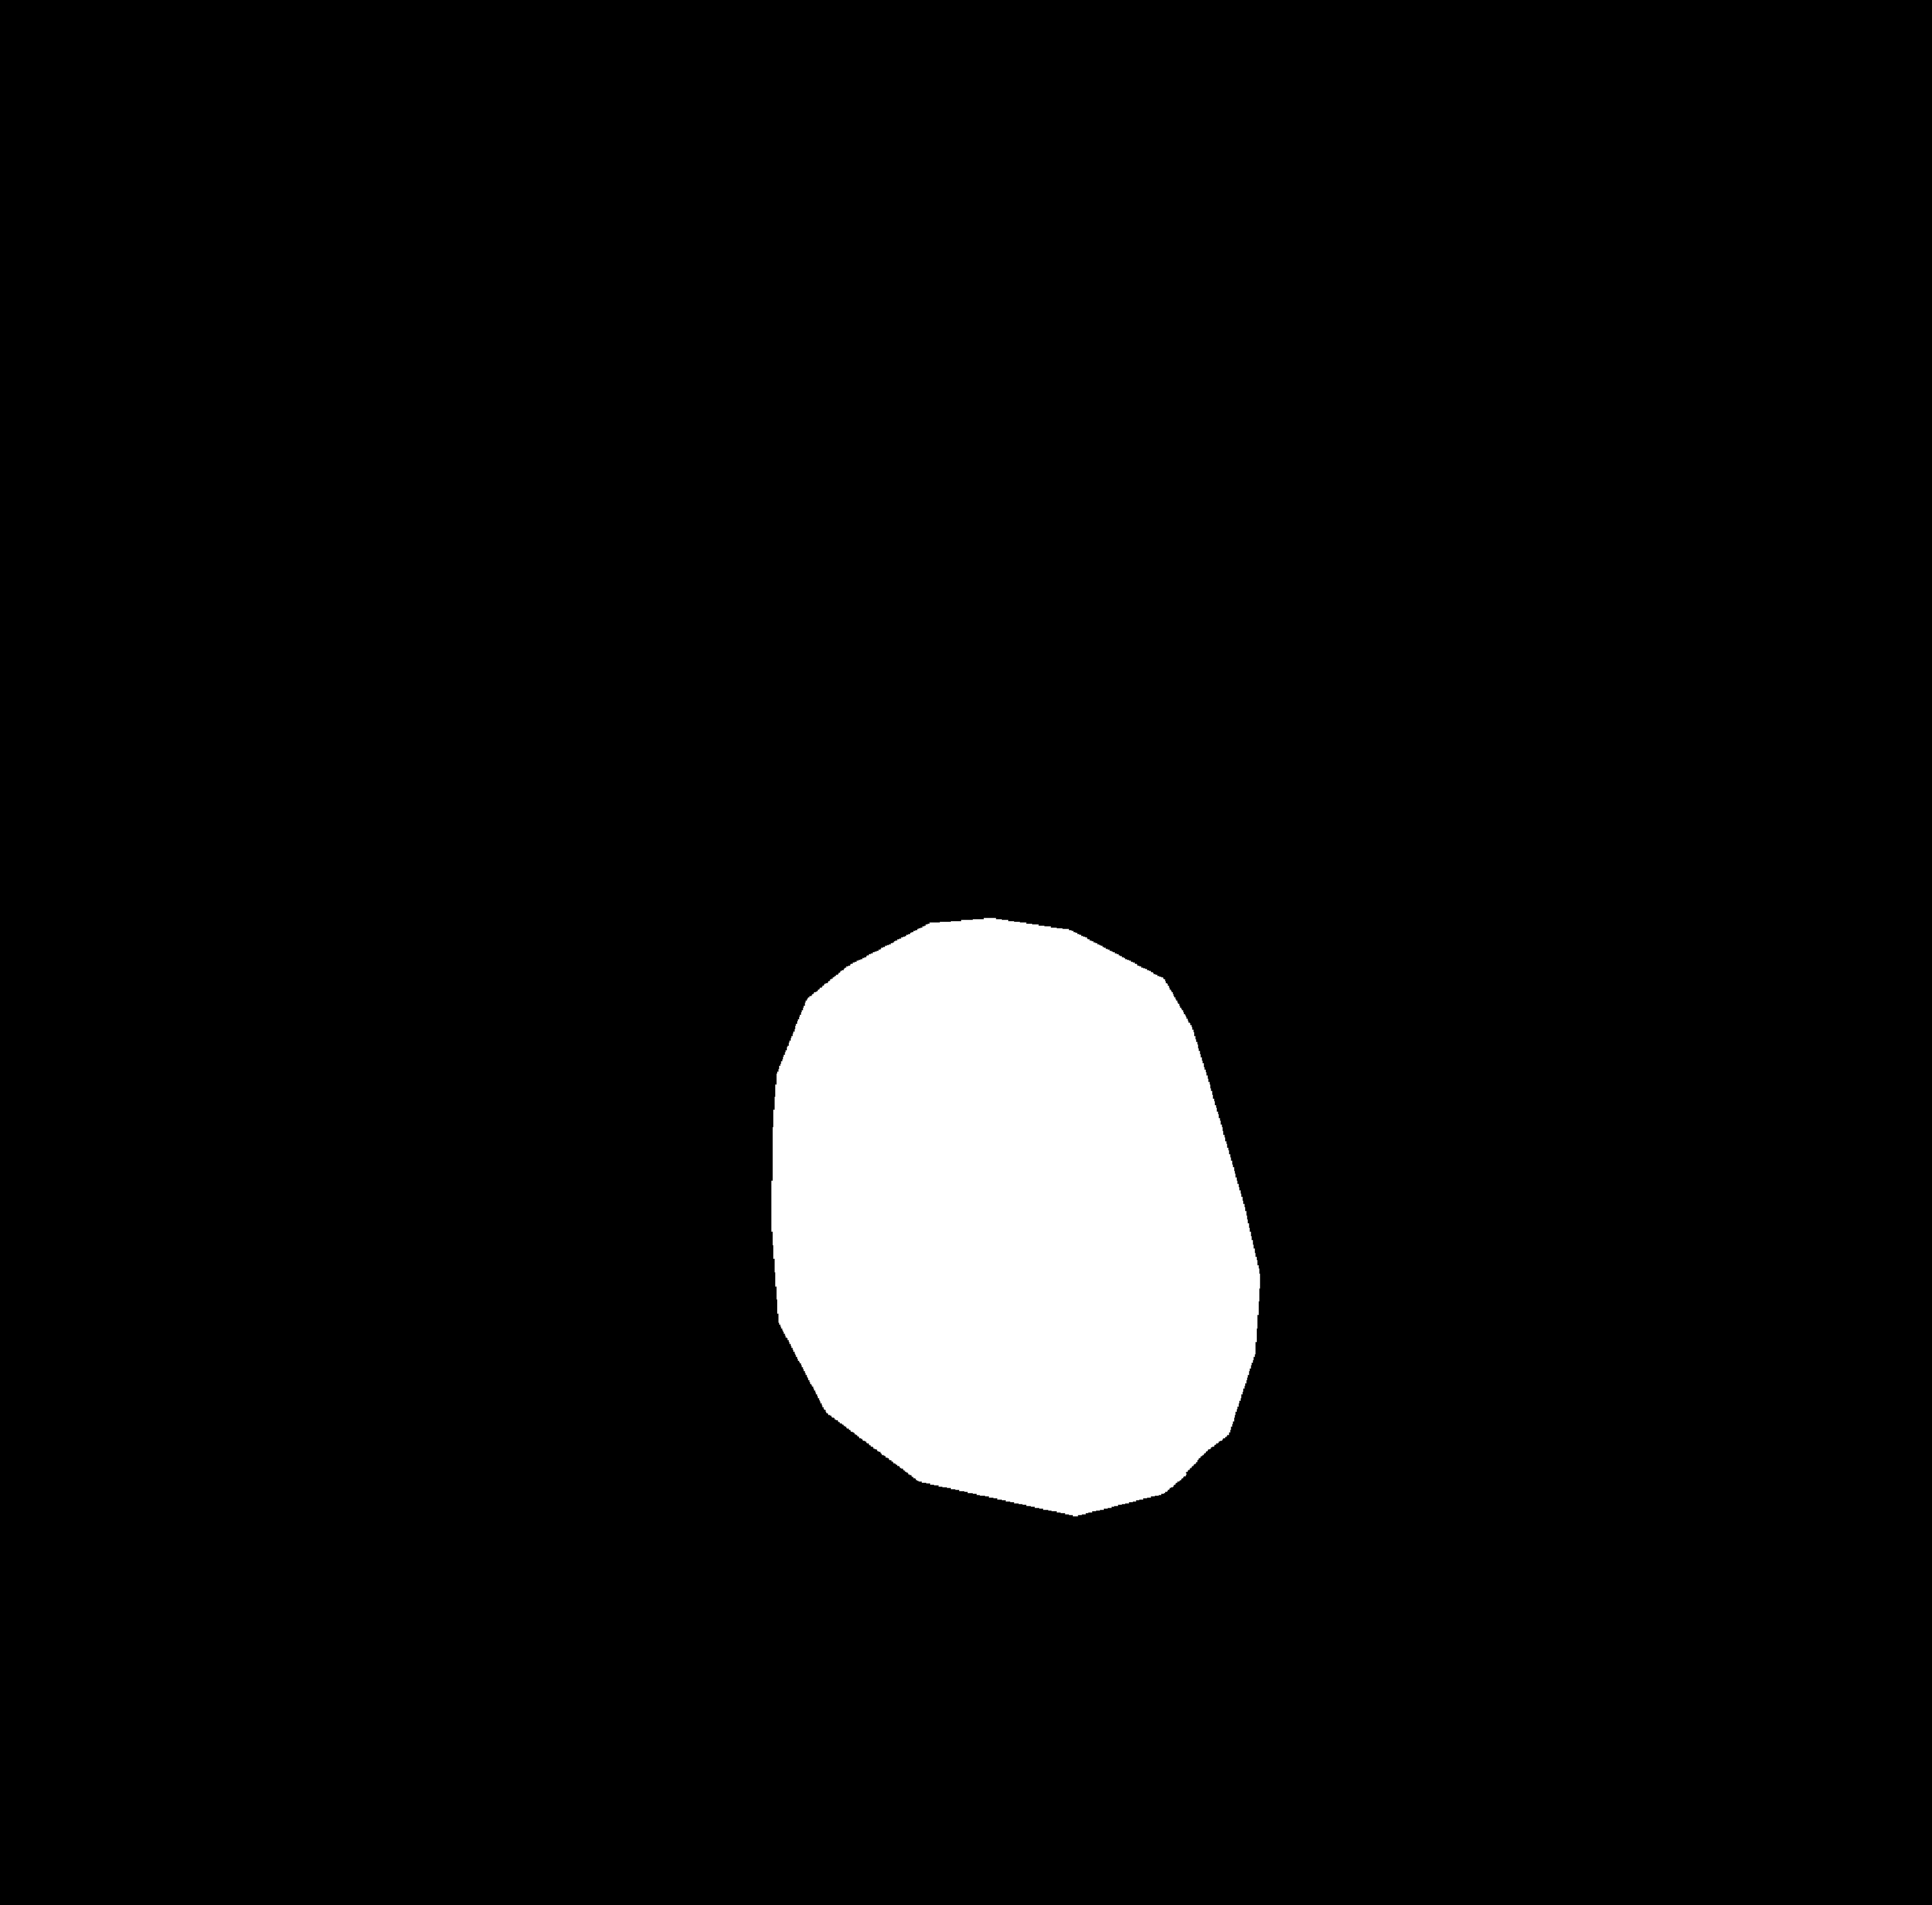heart: (764, 942, 1261, 1507)
left_lung: (255, 267, 879, 1706)
right_lung: (1022, 326, 1500, 1544)
